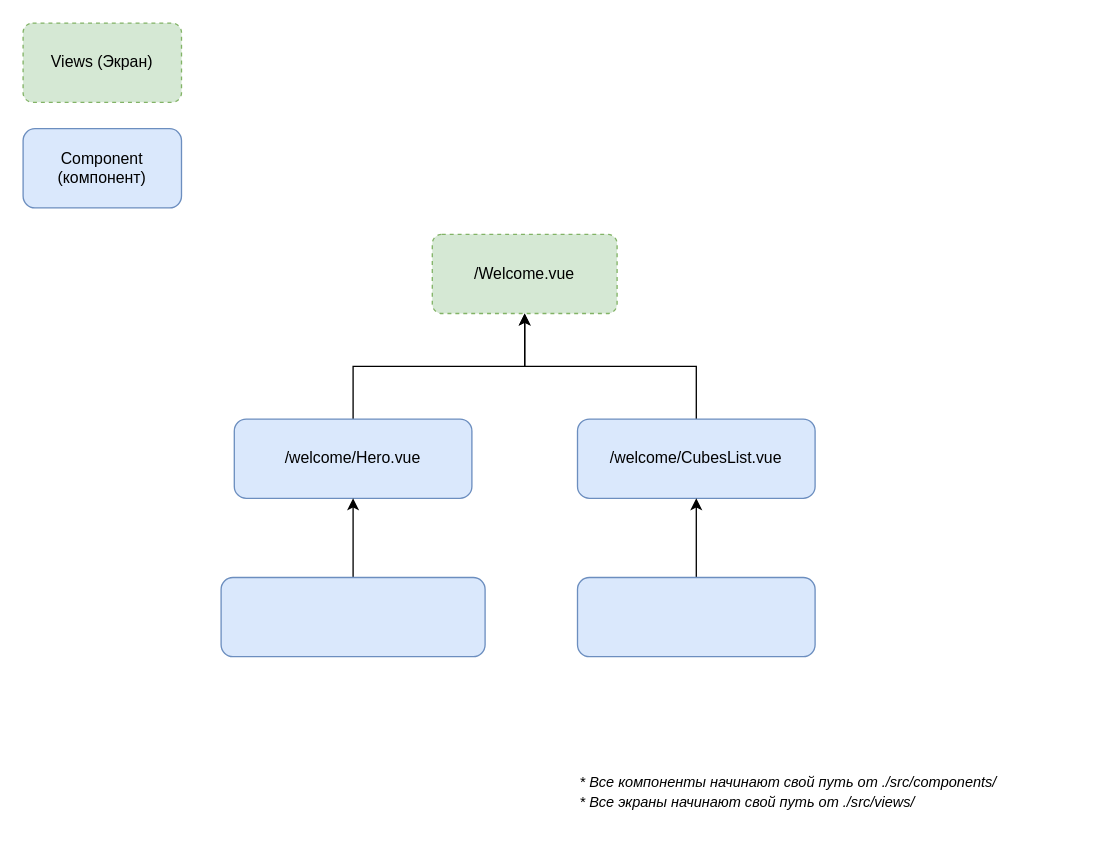
Some shapes in this 1102 by 845 pixel diagram are drawn without their labels. The shapes that lost their labels are listed below. From the top down, each one's centre as x and y in pixels, then its label:
the point at 352,616: /welcome/createButton.vue
the point at 695,616: /welcome/Cube.vue
